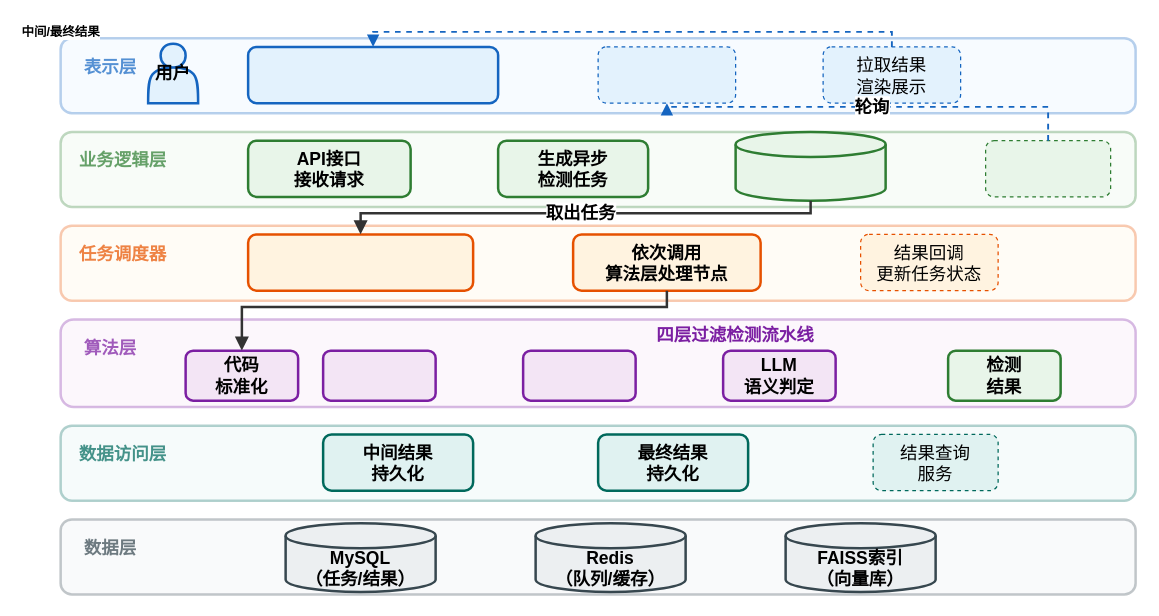
Some shapes in this 1159 by 616 pixel diagram are drawn without their labels. Each missing label, with the centre of its shape:
FAISS 向量检索: the point at 578,375
MD5哈希 预筛: the point at 378,375
任务调度器 （从队列取出任务）: the point at 360,261
任务队列 （Celery / Redis）: the point at 810,165
前端界面 （代码提交 / 结果展示）: the point at 372,74
定时轮询 获取任务状态: the point at 666,74
状态查询 接口: the point at 1047,168
